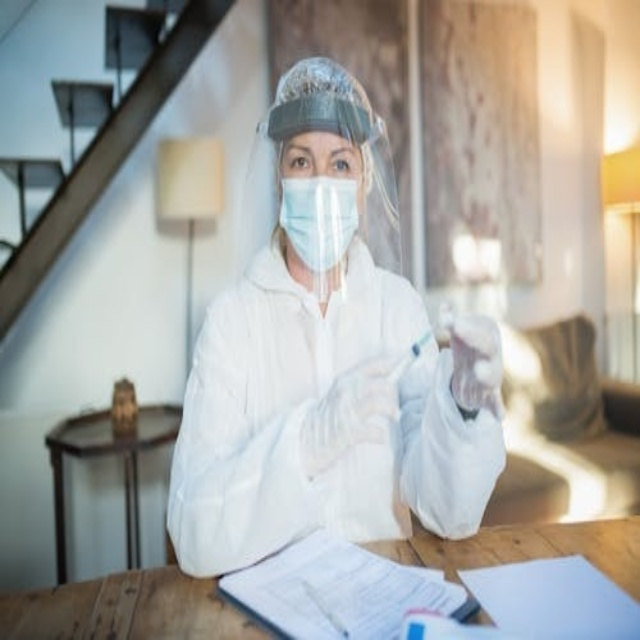Guantes: (298, 337, 407, 494), (424, 287, 515, 437)
Mascara: (278, 174, 360, 271)
Sin_gafas: (282, 138, 361, 184)
